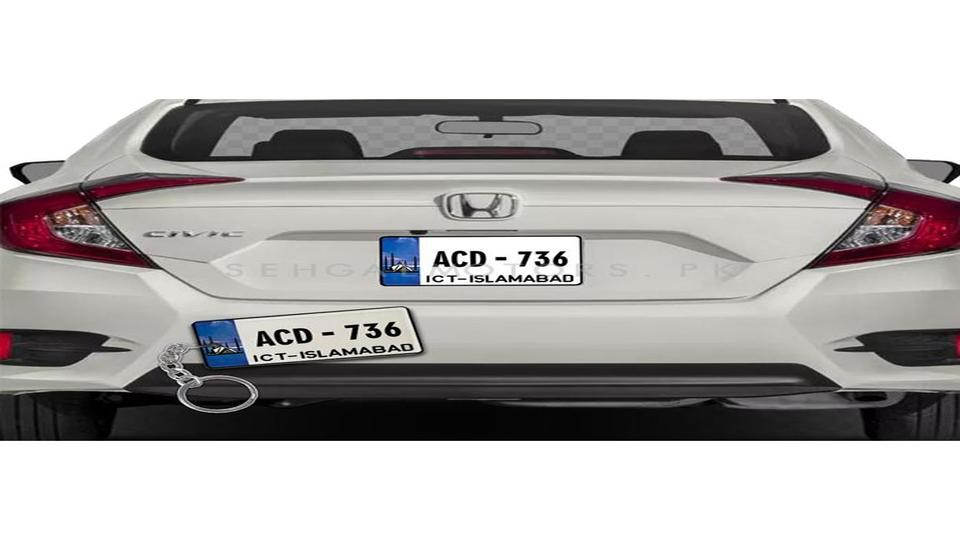NumberPlate: (187, 320, 435, 374), (375, 231, 588, 291)
